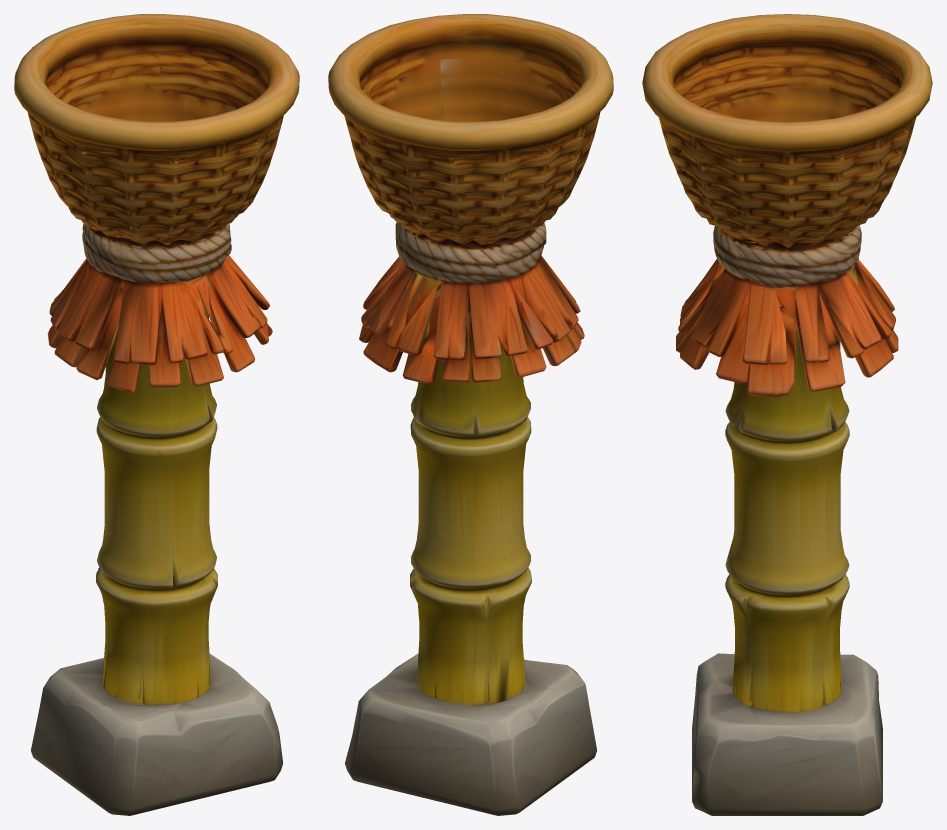
The model's file is raw.glb.
3 views of the same model, side by side, from view 1: azimuth 30°, elevation 25°; view 2: azimuth 150°, elevation 25°; view 3: azimuth 270°, elevation 25° (orthographic).
Parts seen in each view (by area): view 1: material; view 2: material; view 3: material.
Boxes of the visible parts, <box> form: material: <box>14,14,299,815</box>; material: <box>328,14,613,815</box>; material: <box>642,14,932,815</box>.
Size of the model in its own units: 0.701 by 1.9 by 0.7088.
1 material, 1 textured.
